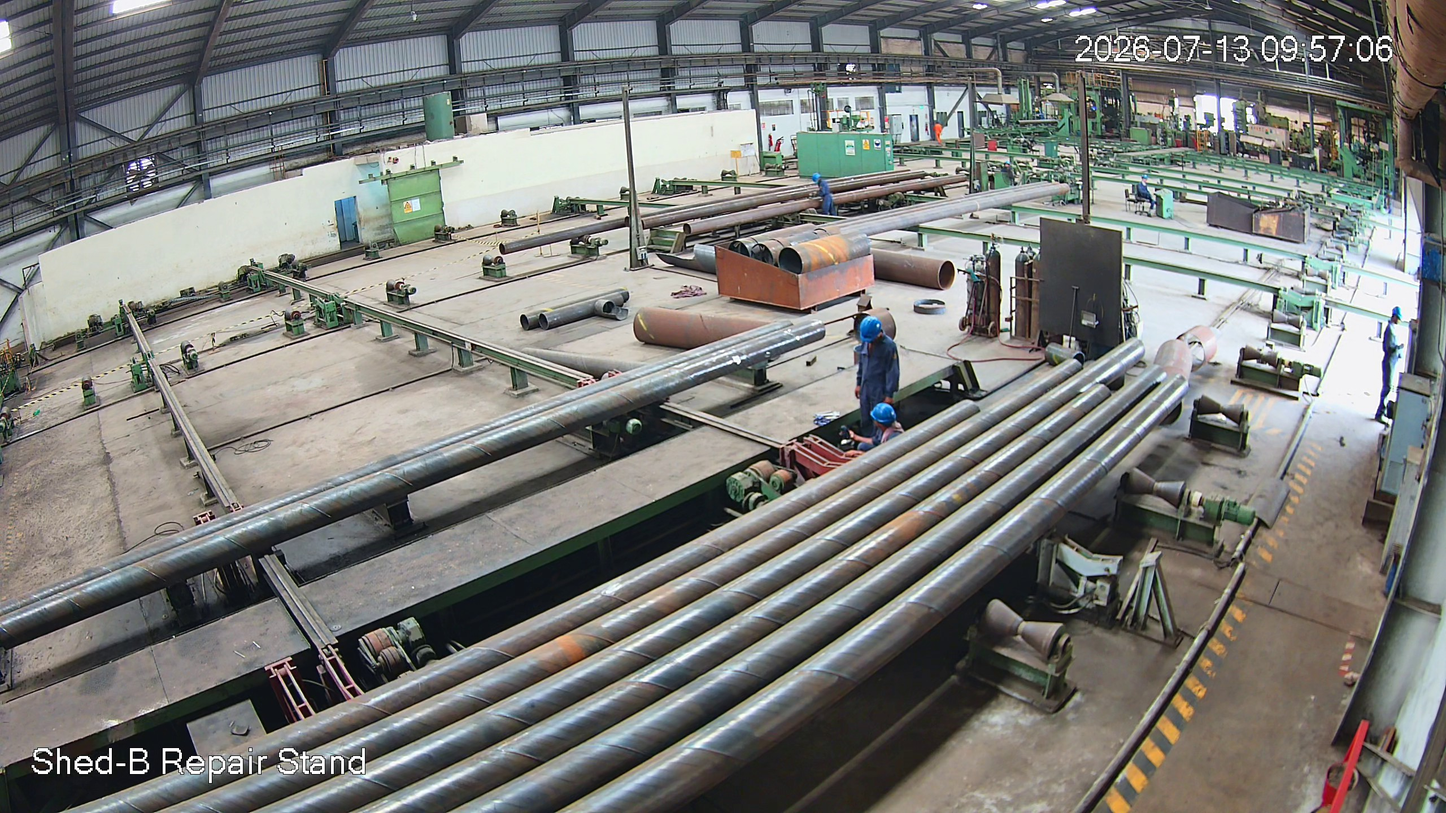Helmet: (856, 314, 889, 353), (867, 402, 899, 434)
Person: (852, 317, 903, 426), (844, 402, 906, 455)
